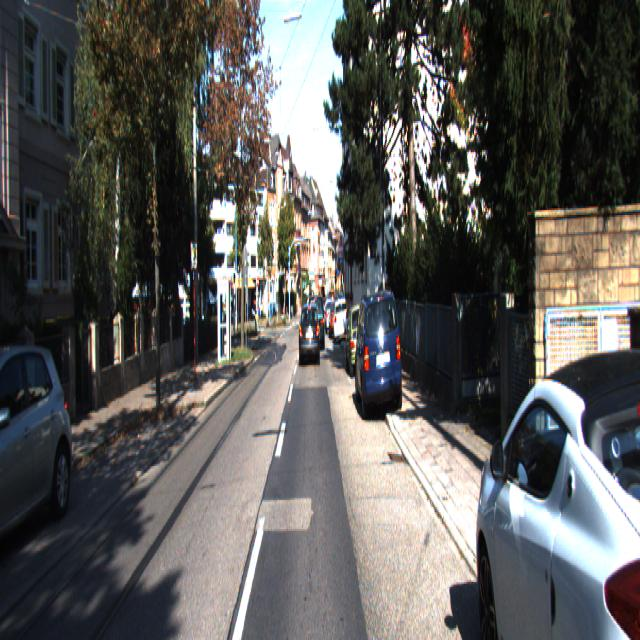Car: (472, 314, 640, 638), (0, 333, 79, 568), (354, 286, 404, 426), (345, 300, 373, 380), (298, 302, 320, 369), (308, 295, 325, 354), (332, 297, 348, 346)
